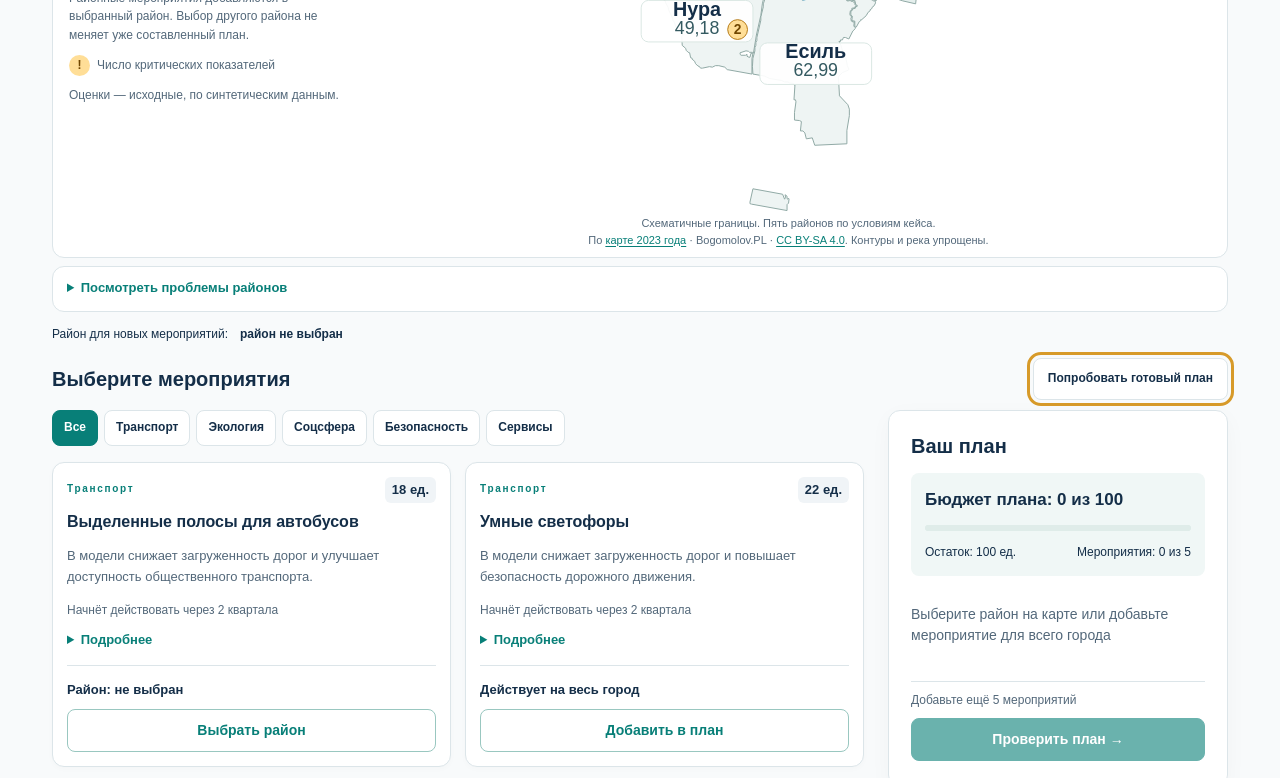
Scenario: изменение плана удаляет результат; запоздавший AI не появляется
The width and height of the screenshot is (1280, 778).
(page scrolled)
Click the button "Попробовать готовый план". click: [1130, 379]
box: [1033, 358, 1228, 400]
(page scrolled)
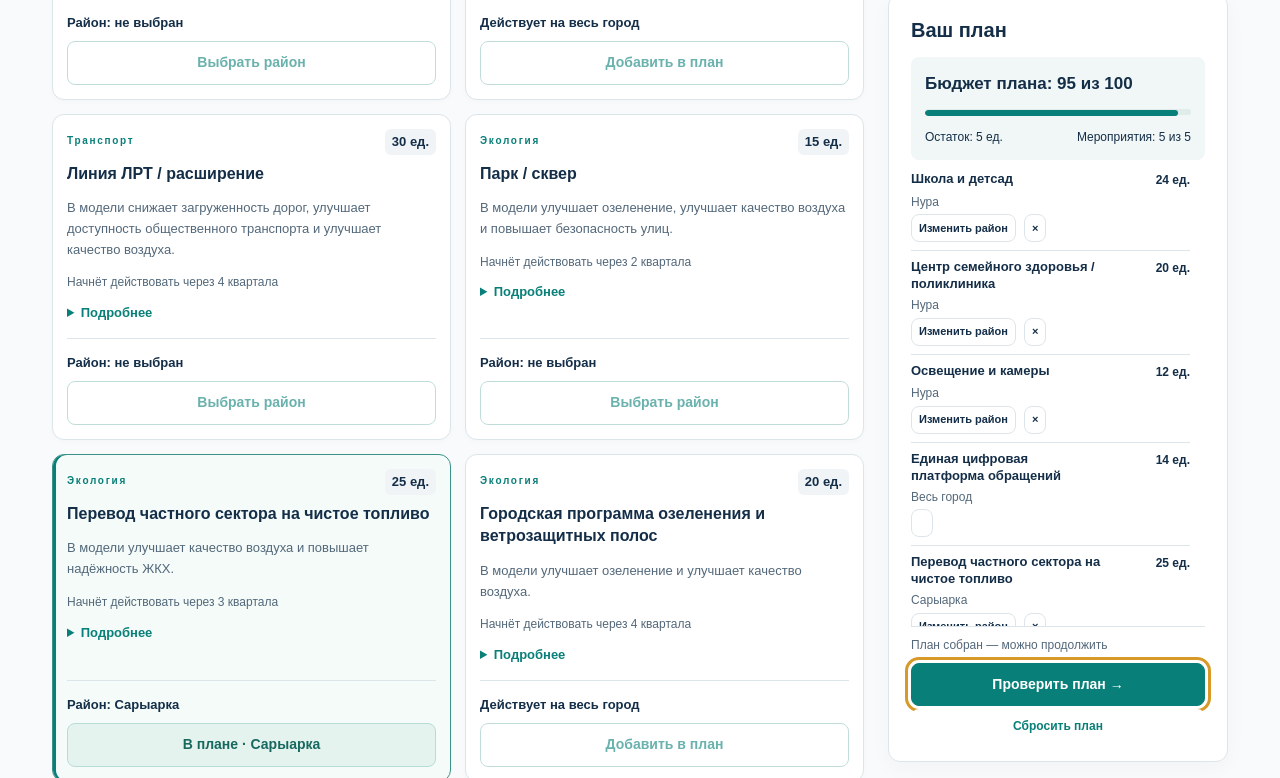
Click the button "Проверить план →". click: [1058, 684]
box: [911, 662, 1205, 706]
(page scrolled)
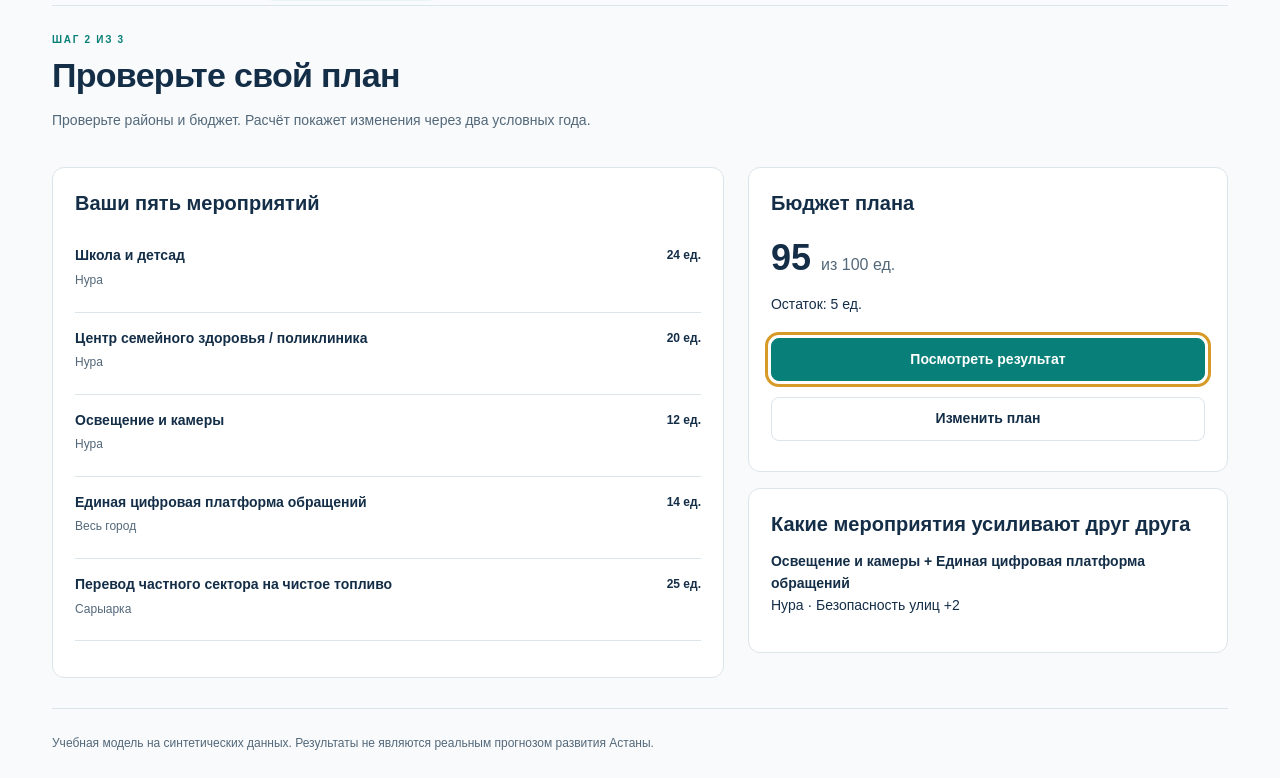
Click the button "Посмотреть результат". click: [988, 360]
box: [771, 338, 1205, 382]
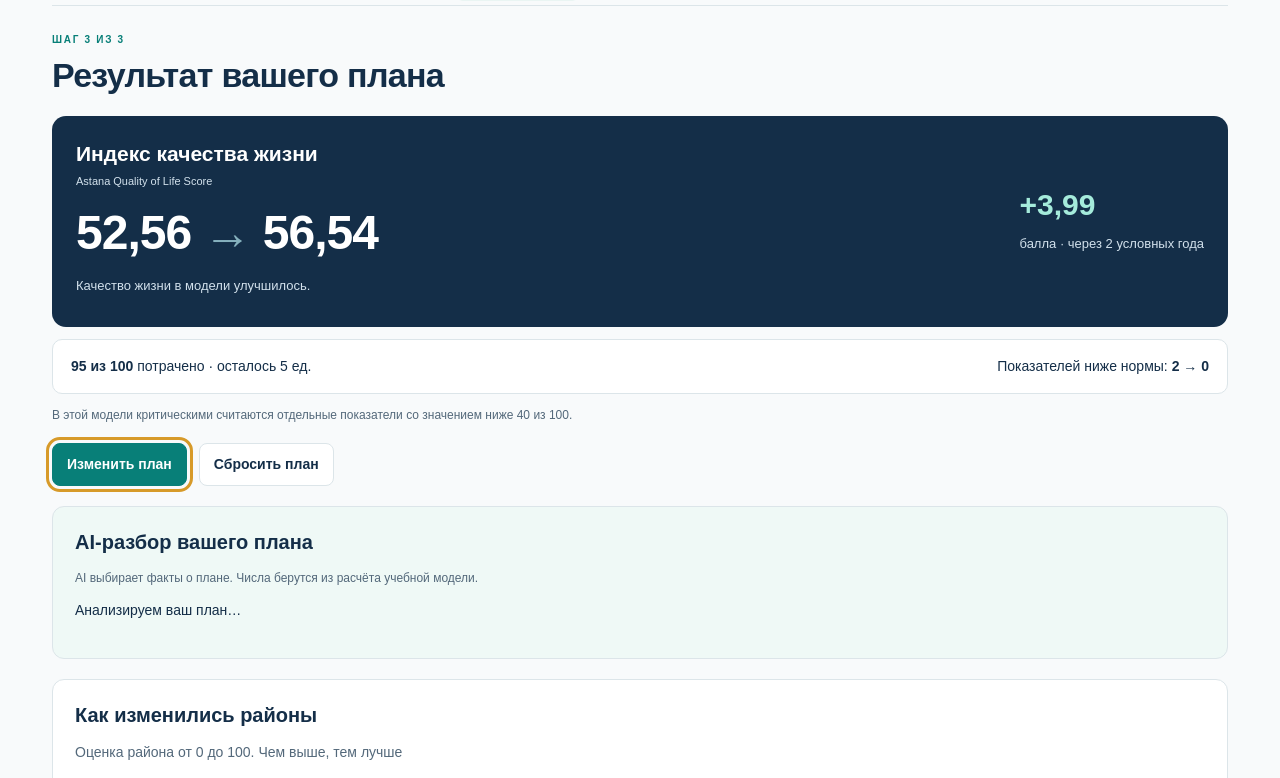
Check: the text "Анализируем ваш план…" is shown, box [75, 602, 241, 618]
Check: the text "56,54" is shown, box [263, 206, 378, 259]
Click the button "Изменить план". click: [119, 465]
box: [52, 443, 187, 486]
(page scrolled)
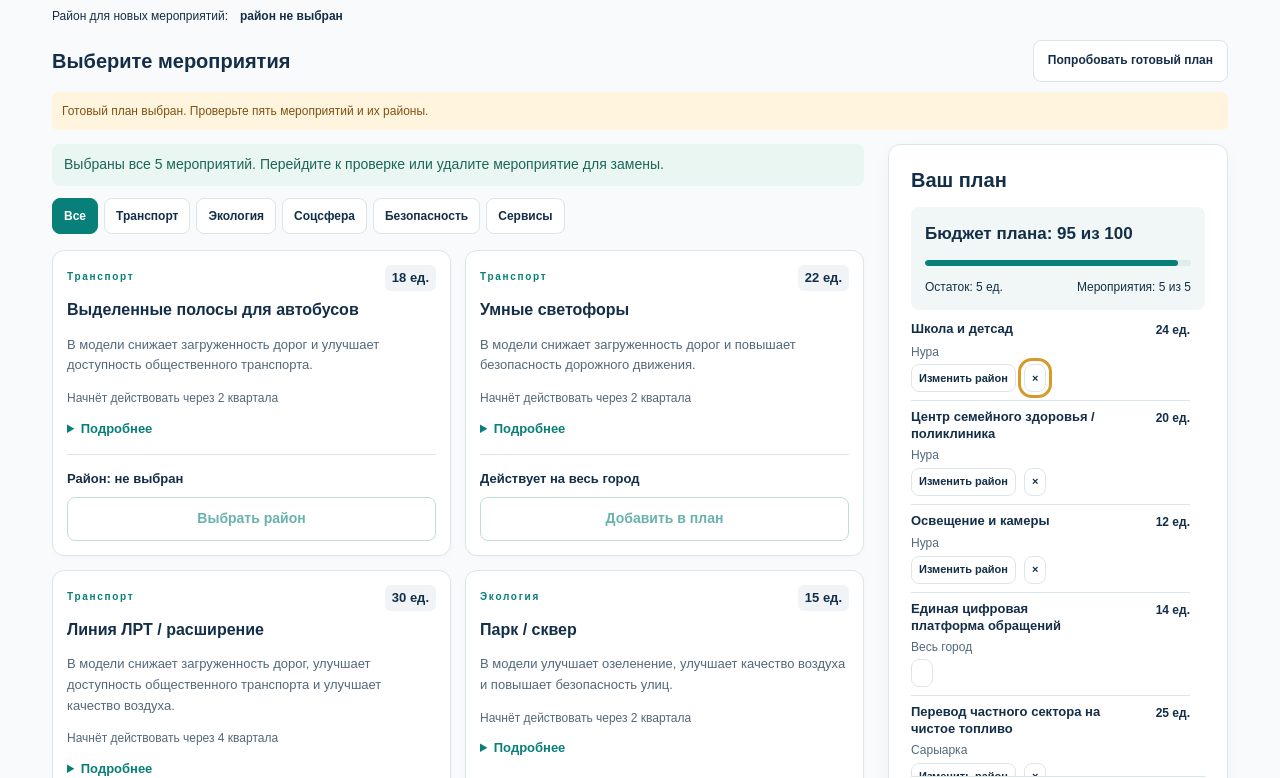
Click the button named "Удалить: Школа и детсад". click: [1035, 378]
box: [1024, 364, 1046, 392]
(page scrolled)
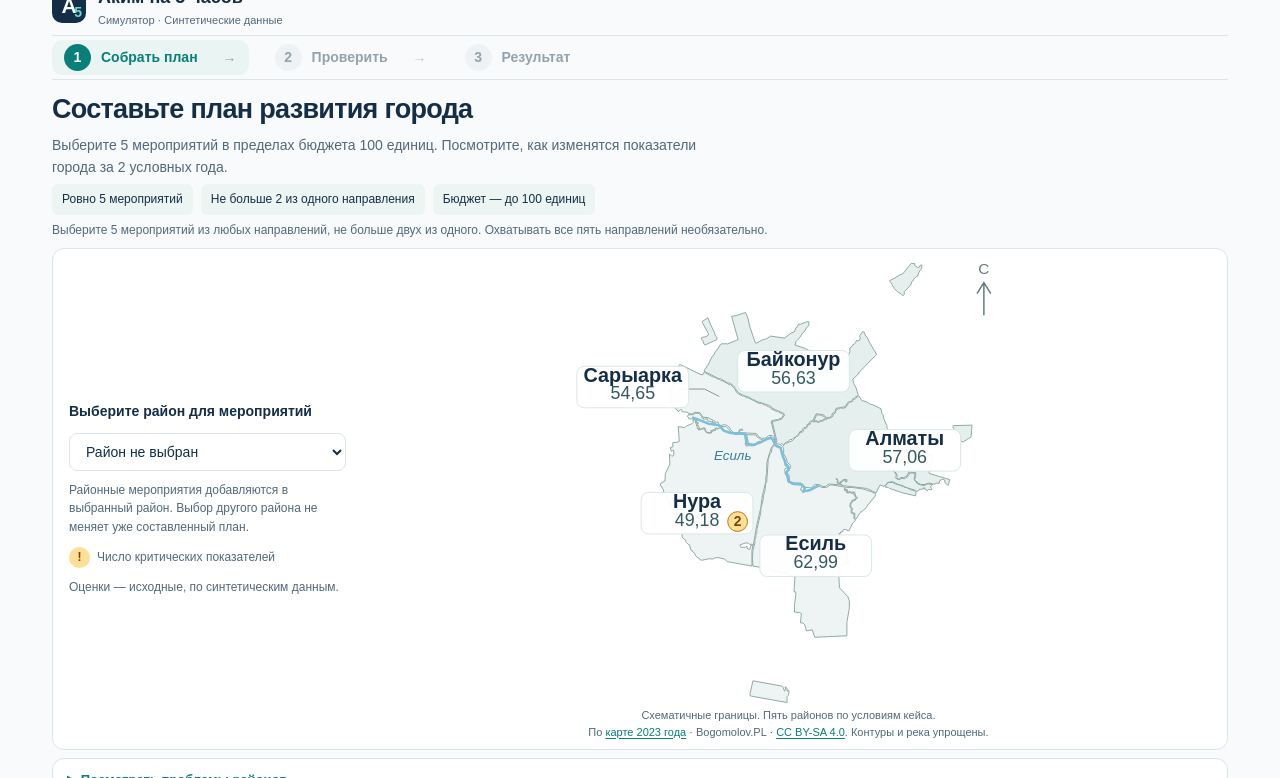
Check: the button "3 Результат" is disabled, box [453, 40, 582, 75]
